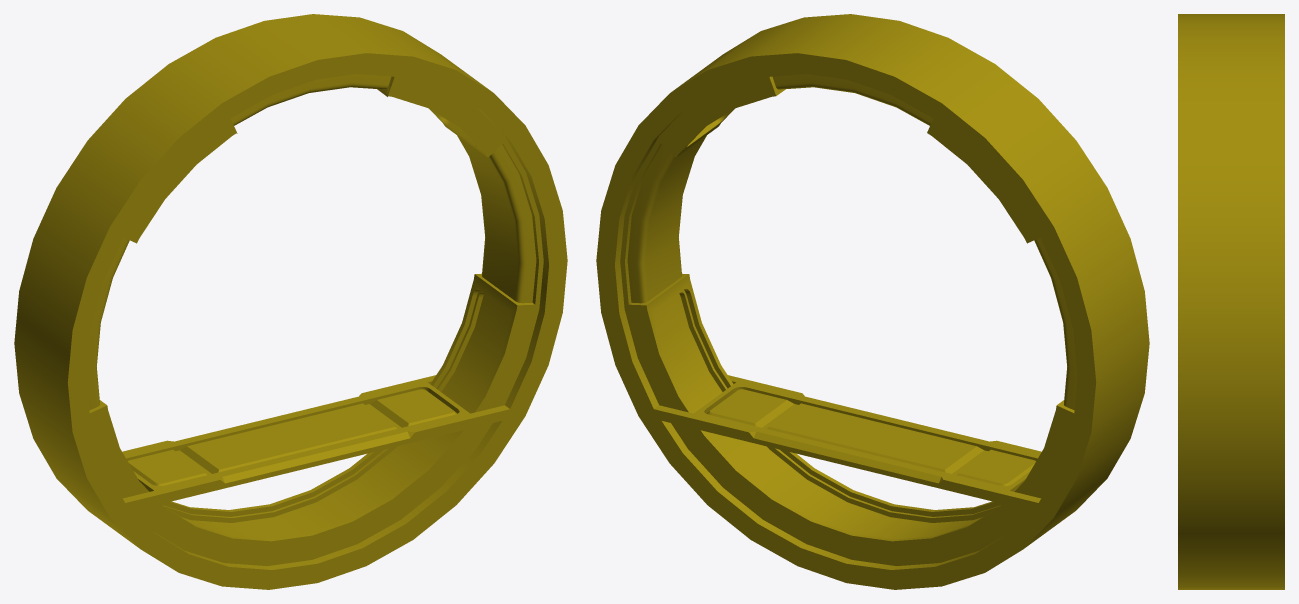
Rendered from RoundCorr_Separator_B.FBX.
The picture shows the model from 3 angles, left to right: view 1: azimuth 30°, elevation 25°; view 2: azimuth 150°, elevation 25°; view 3: azimuth 270°, elevation 25°; orthographic projection.
Visible parts, largest first — view 1: RoundCorr_Separator_B; view 2: RoundCorr_Separator_B; view 3: RoundCorr_Separator_B.
Boxes of the visible parts, box(x1,y1,x2,y2) form: RoundCorr_Separator_B: box(14, 14, 567, 589); RoundCorr_Separator_B: box(596, 14, 1149, 589); RoundCorr_Separator_B: box(1178, 14, 1284, 589).
Size of the model in its own units: 540 by 540 by 100.
